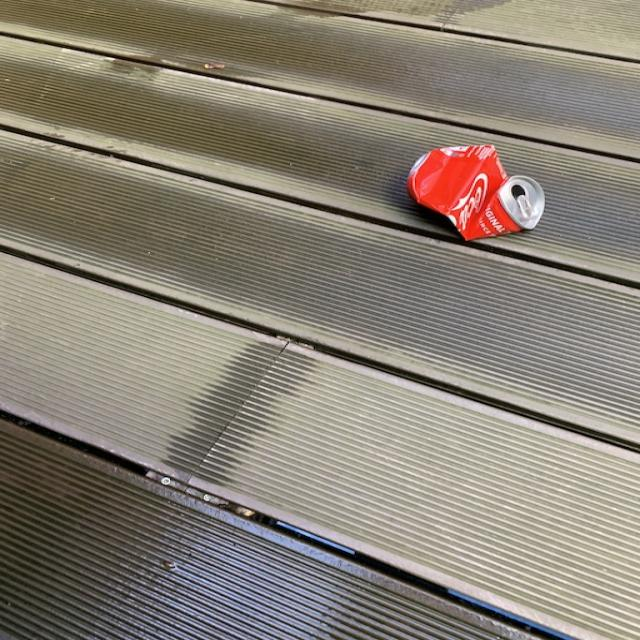litter: (405, 147, 549, 241)
